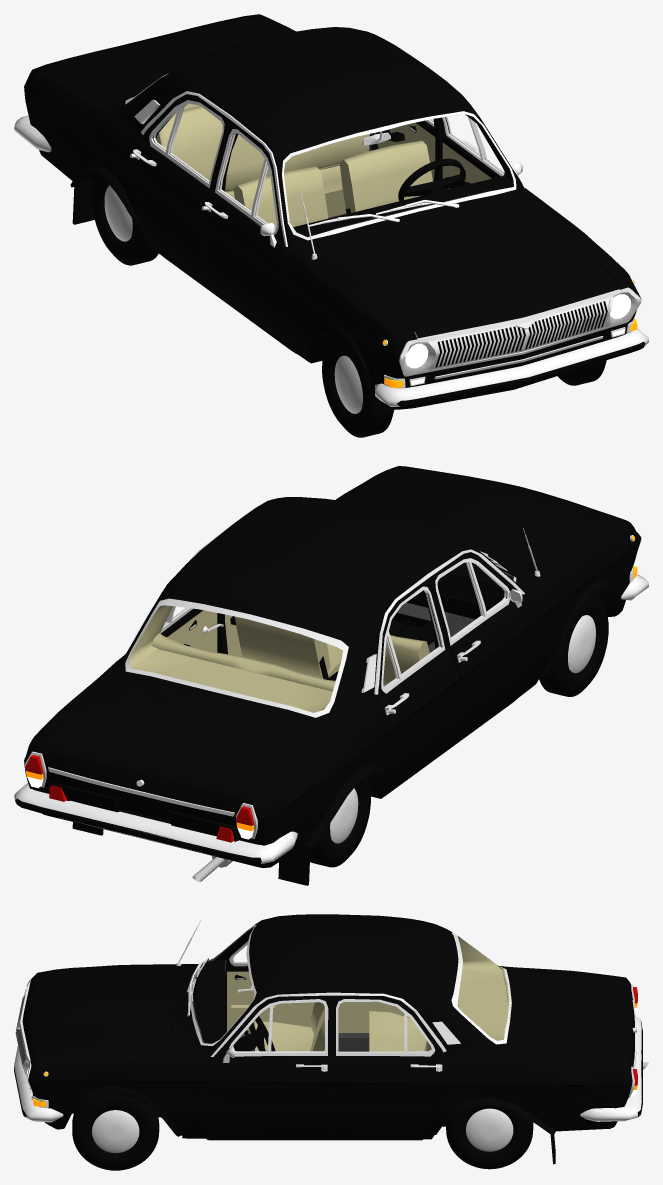
3 renders of one model, top to bottom at view 1: azimuth 30°, elevation 25°; view 2: azimuth 150°, elevation 25°; view 3: azimuth 270°, elevation 25°, orthographic. The views are drawn at different scales.
Visible parts, largest first — view 1: GLTF_created_0, Seats_19, Grill_18, Bumper (front)_14, Wipers_21, Bumper (rear)_15; view 2: GLTF_created_0, Seats_19, Bumper (rear)_15; view 3: GLTF_created_0, Seats_19, Bumper (rear)_15, Bumper (front)_14, Grill_18.
Boxes of the visible parts, box(x1,y1,x2,y2) form: GLTF_created_0: box(24, 14, 640, 437); Seats_19: box(156, 106, 432, 227); Grill_18: box(399, 287, 641, 386); Bumper (front)_14: box(375, 328, 648, 406); Wipers_21: box(309, 200, 459, 226); Bumper (rear)_15: box(14, 115, 51, 152); GLTF_created_0: box(24, 466, 641, 885); Seats_19: box(151, 616, 429, 691); Bumper (rear)_15: box(14, 783, 297, 863); GLTF_created_0: box(22, 914, 637, 1170); Seats_19: box(255, 998, 458, 1051); Bumper (rear)_15: box(580, 1017, 642, 1121); Bumper (front)_14: box(14, 1045, 63, 1122); Grill_18: box(15, 979, 33, 1100).
Size of what is drawn, in the model's own units: 1.82 by 1.5 by 4.73.
